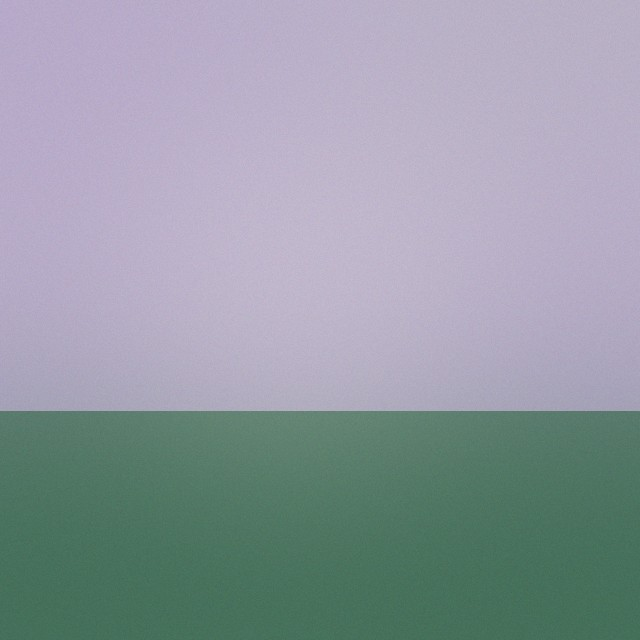smoke: (211, 0, 609, 362)
